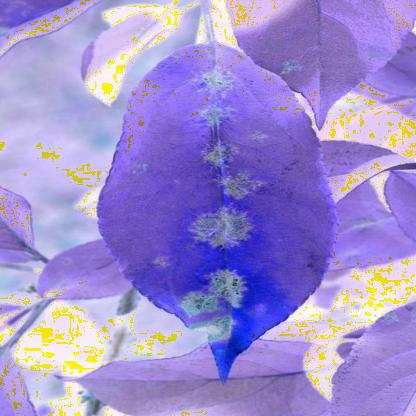apple scab leaf: (92, 43, 339, 385)
